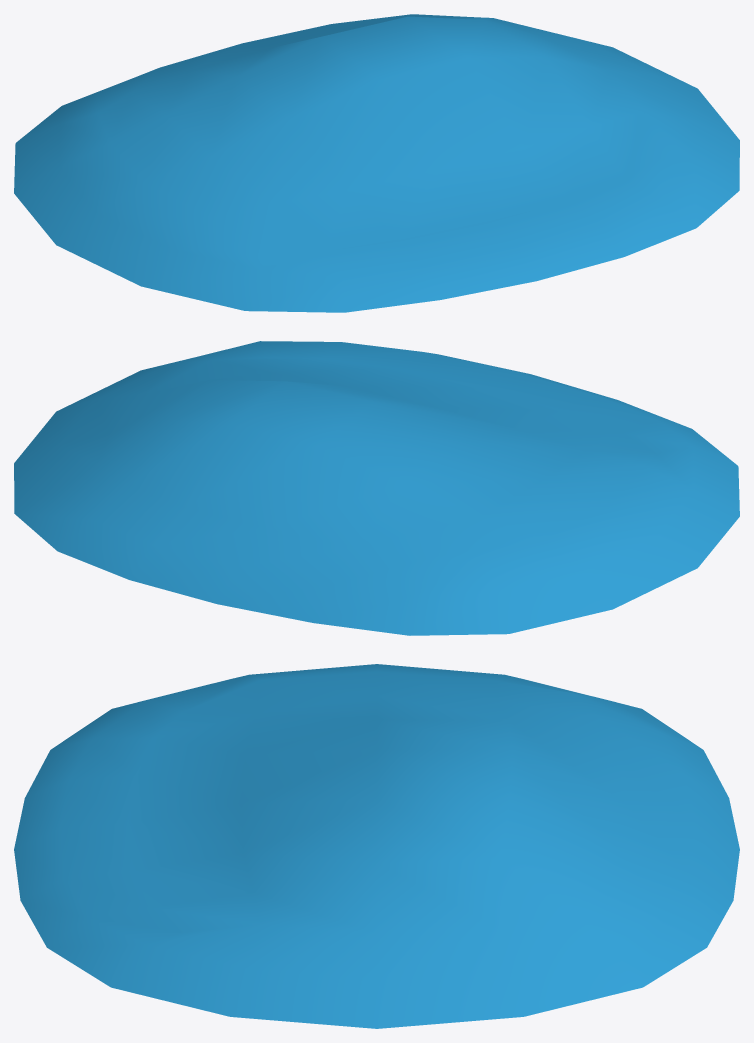
The model's file is Rock_Mound_03.fbx.
The picture shows the model from 3 angles, top to bottom: view 1: azimuth 30°, elevation 25°; view 2: azimuth 150°, elevation 25°; view 3: azimuth 270°, elevation 25°; orthographic projection. The views are drawn at different scales.
Visible parts, largest first — view 1: Rock_Mound_03; view 2: Rock_Mound_03; view 3: Rock_Mound_03.
Part boxes in pixels (x1,y1,x2,y2): Rock_Mound_03: [14, 14, 739, 312]; Rock_Mound_03: [14, 341, 739, 635]; Rock_Mound_03: [14, 664, 739, 1028].
Bounding box in the file's own units: 1888 × 243 × 1601.
